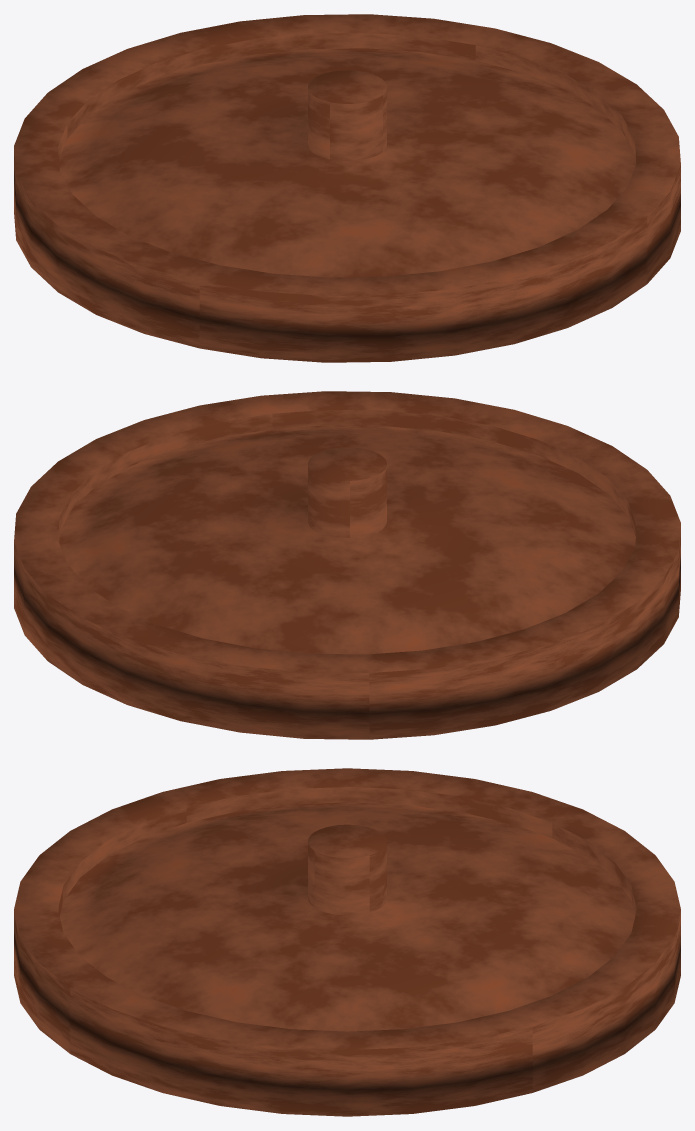
Rendered from Final_Tank Cap.glb.
The picture shows the model from 3 angles, top to bottom: view 1: azimuth 30°, elevation 25°; view 2: azimuth 150°, elevation 25°; view 3: azimuth 270°, elevation 25°; orthographic projection.
Parts seen in each view (by area): view 1: Fuel tank cap; view 2: Fuel tank cap; view 3: Fuel tank cap.
Part boxes in pixels (bbox=[...]): Fuel tank cap: bbox=[14, 14, 680, 362]; Fuel tank cap: bbox=[14, 391, 680, 739]; Fuel tank cap: bbox=[14, 768, 680, 1116].
Size of the model in its own units: 1.03 by 0.2286 by 1.03.
1 material, 1 textured.
